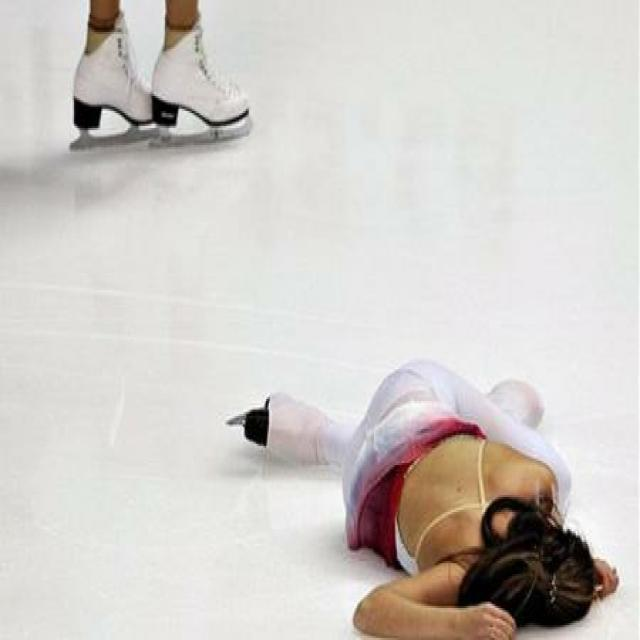fall: (263, 356, 603, 636)
